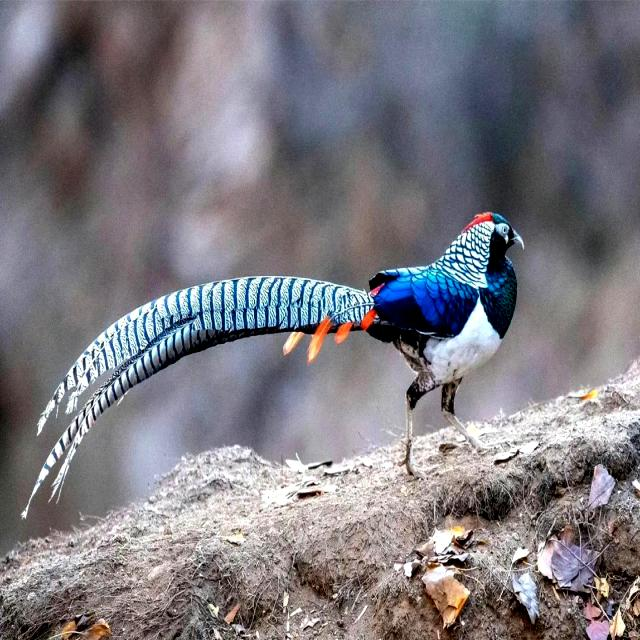Chrysolophus amherstiae: (33, 277, 372, 492)
